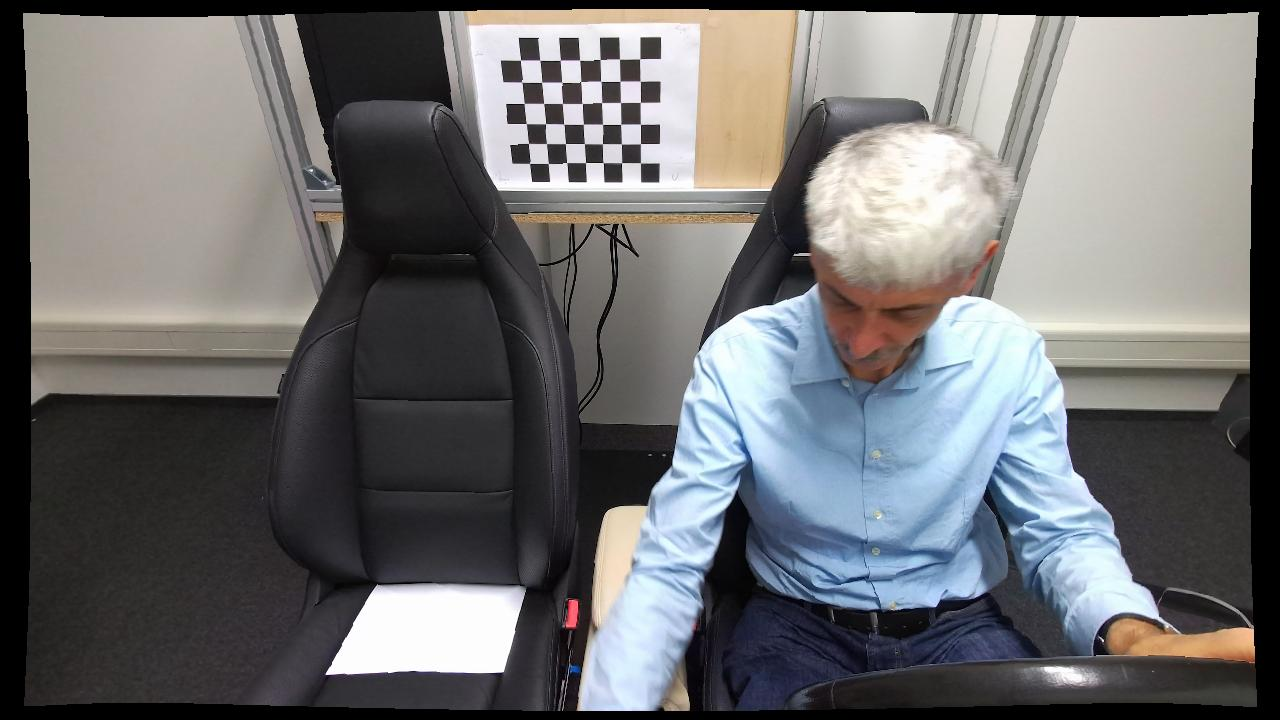Distracted: (574, 121, 1127, 715)
